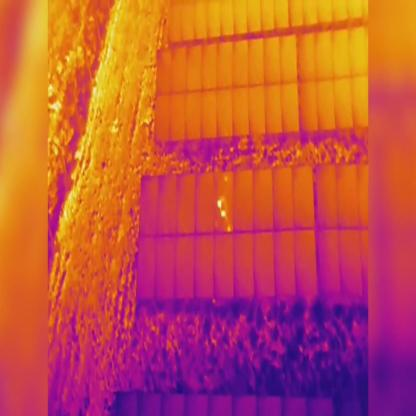panel: (292, 226, 321, 299), (271, 228, 299, 297), (251, 229, 279, 298), (289, 162, 317, 231), (231, 230, 258, 299), (191, 231, 217, 301), (250, 164, 276, 232), (173, 232, 199, 298), (191, 169, 217, 235), (271, 165, 297, 230), (134, 235, 160, 299), (212, 230, 237, 296), (153, 234, 178, 300), (211, 168, 236, 234), (230, 166, 254, 233), (174, 170, 198, 237), (137, 171, 160, 236), (156, 172, 177, 236)
